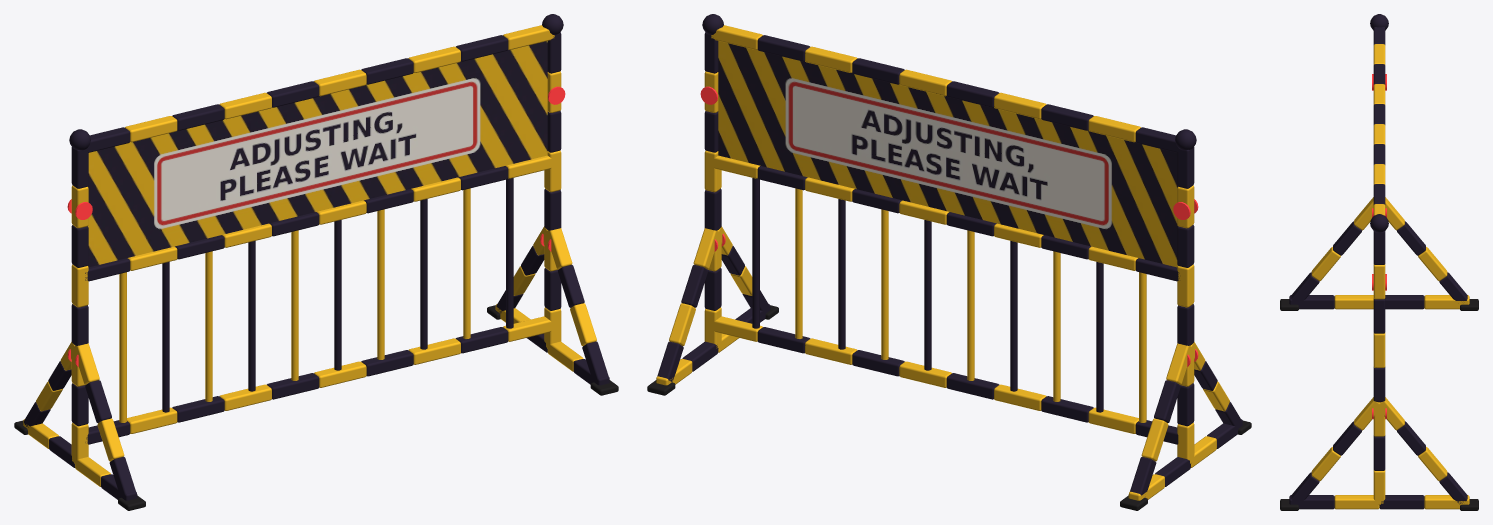
Rendered from obstacle-barricade.glb.
The picture shows the model from 3 angles, left to right: view 1: azimuth 30°, elevation 25°; view 2: azimuth 150°, elevation 25°; view 3: azimuth 270°, elevation 25°; orthographic projection. The views are drawn at different scales.
Visible parts, largest first — view 1: Barricade_yel, Barricade_sign, Barricade_red; view 2: Barricade_yel, Barricade_sign, Barricade_red; view 3: Barricade_yel.
Boxes of the visible parts, left/top/right/bottom form: Barricade_yel: left=14, top=14, right=618, bottom=510; Barricade_sign: left=88, top=41, right=547, bottom=267; Barricade_red: left=67, top=86, right=565, bottom=366; Barricade_yel: left=647, top=14, right=1251, bottom=510; Barricade_sign: left=718, top=41, right=1177, bottom=267; Barricade_red: left=700, top=86, right=1198, bottom=366; Barricade_yel: left=1280, top=14, right=1478, bottom=510.
Bounding box in the file's own units: 1 × 0.6562 × 0.4039.
3 materials, 3 textured.
